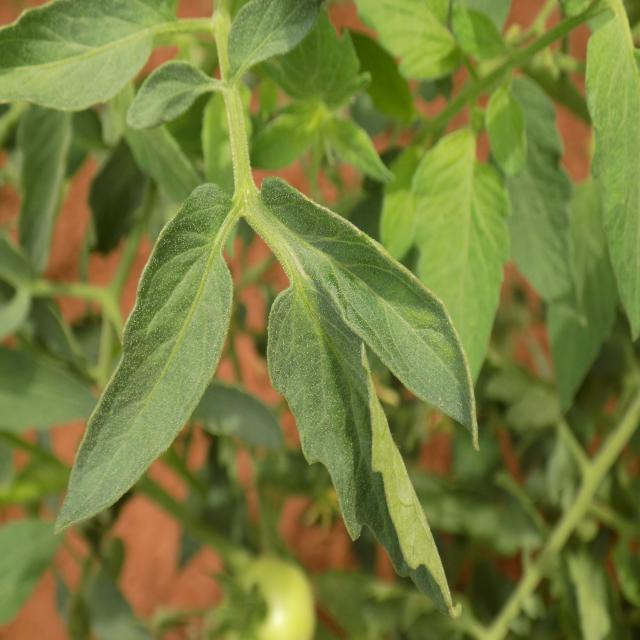tomato_healthy: (259, 276, 465, 625), (48, 183, 239, 540), (257, 170, 486, 448), (404, 121, 520, 433), (125, 55, 212, 132)
